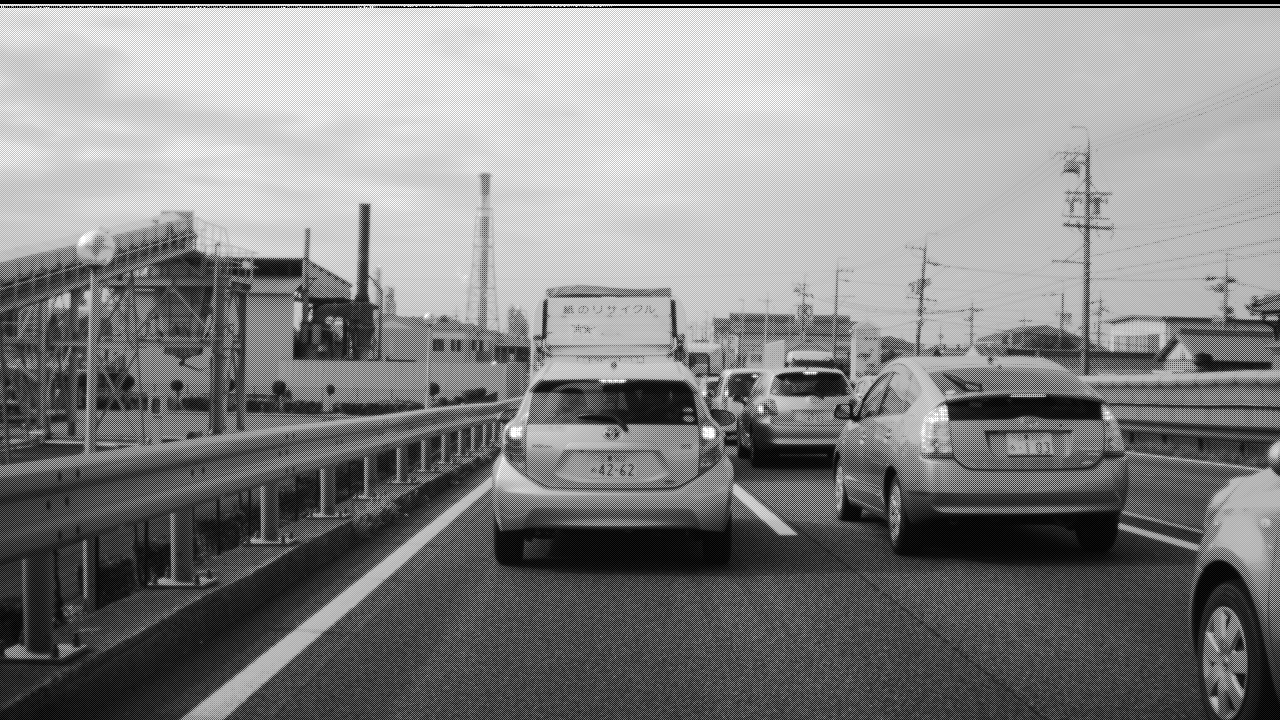pole: (1078, 135, 1095, 372), (913, 236, 930, 354), (833, 265, 842, 355)
